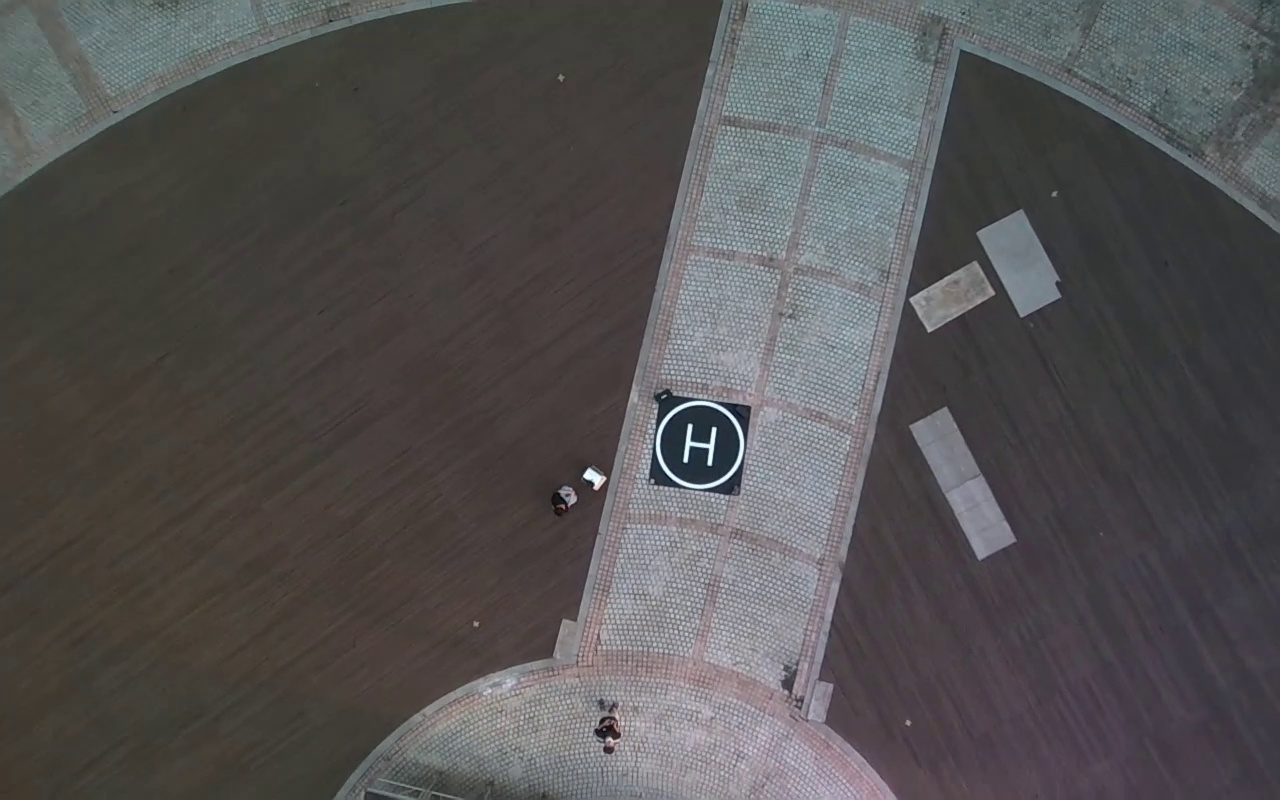H: (682, 421, 717, 467)
heliport: (654, 401, 746, 489)
